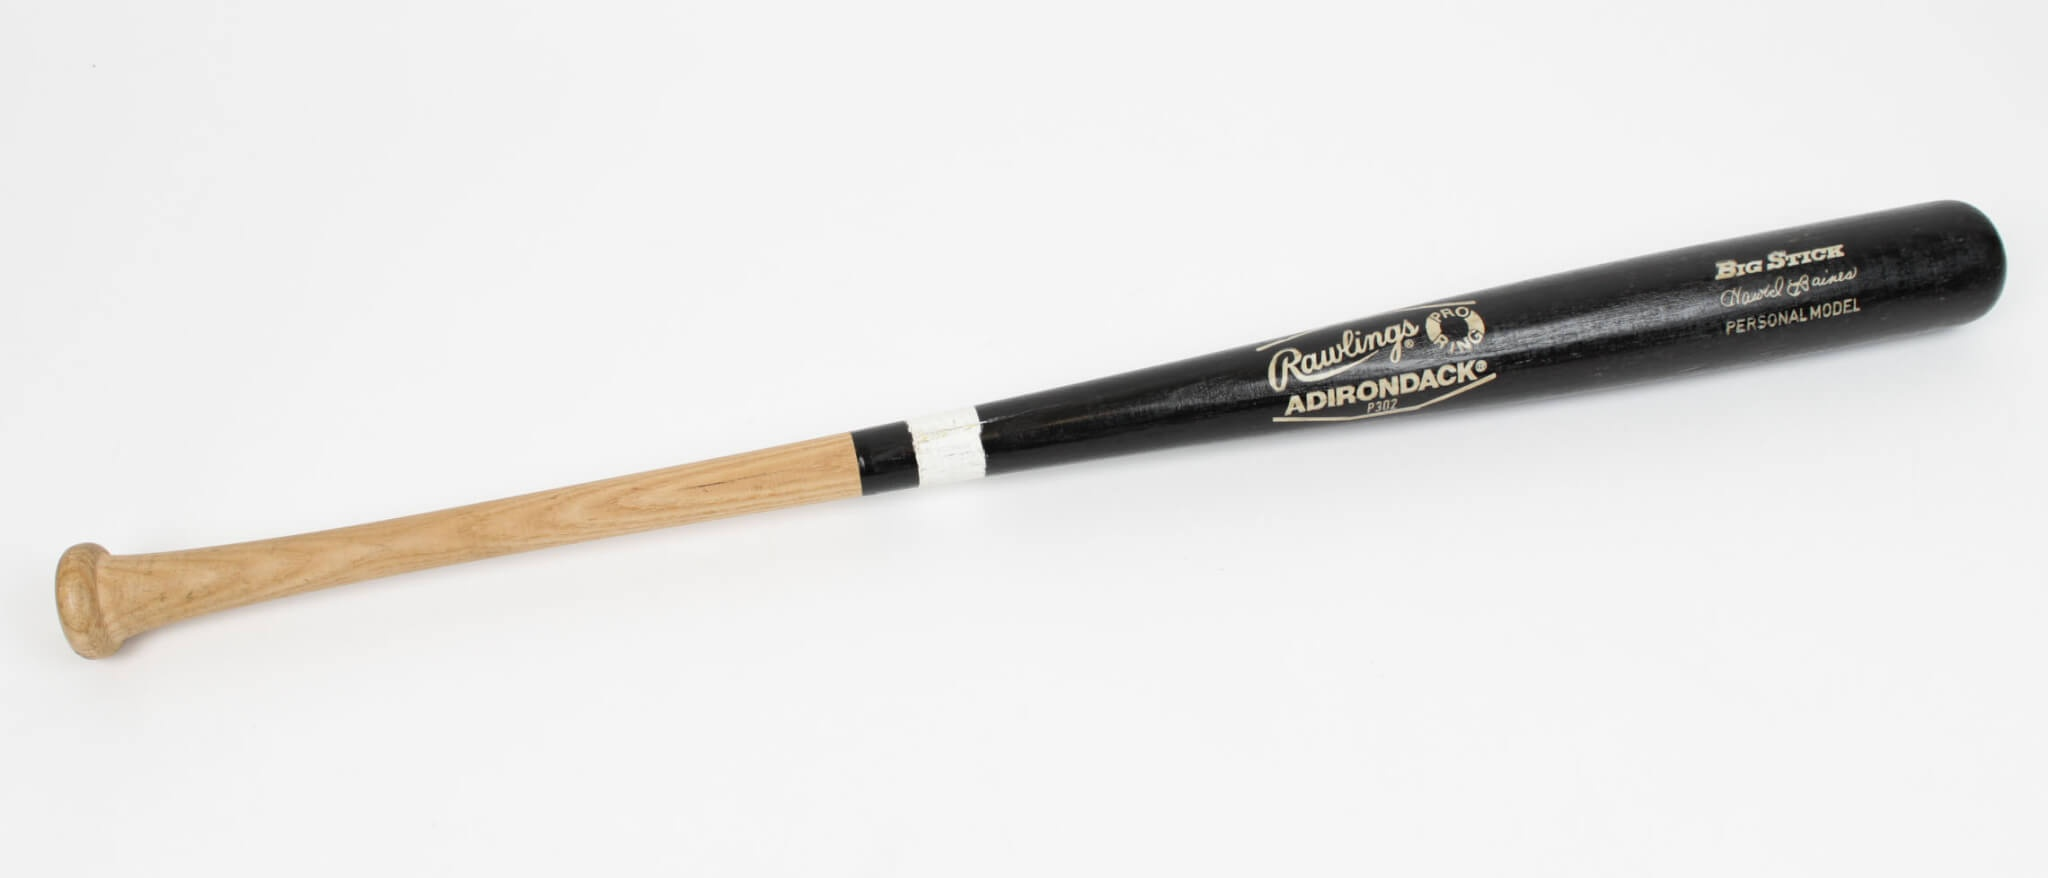bita: (54, 205, 1991, 660)
